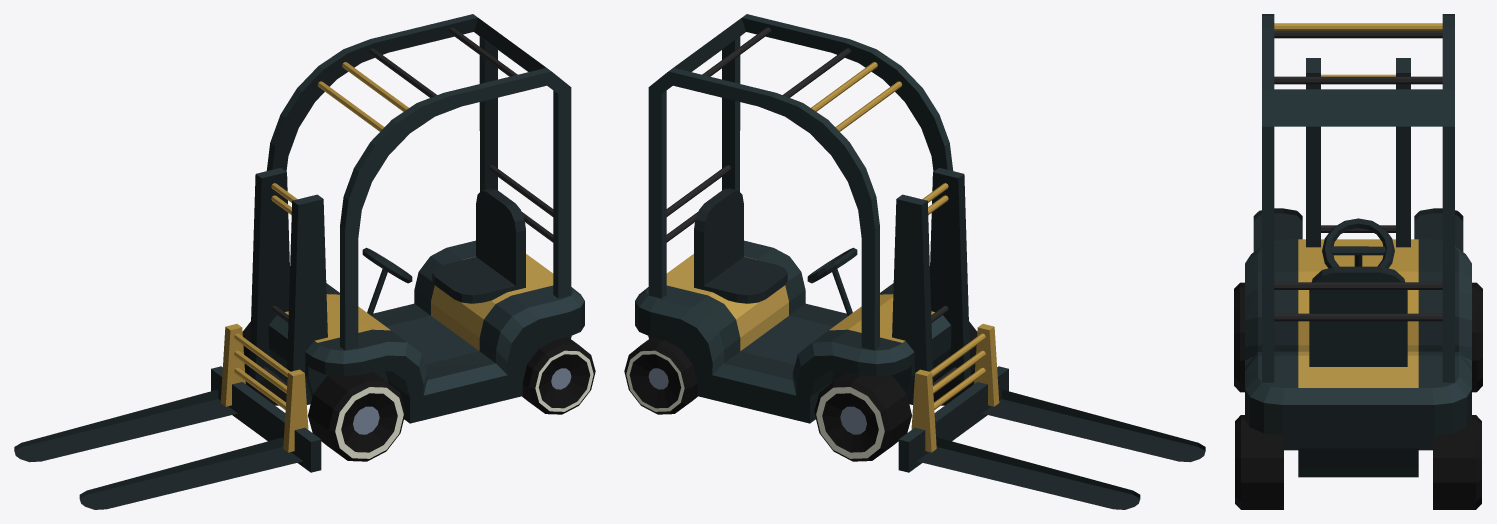
The model's file is forklift.dae.
3 views of the same model, side by side, from view 1: azimuth 30°, elevation 25°; view 2: azimuth 150°, elevation 25°; view 3: azimuth 270°, elevation 25° (orthographic). The views are drawn at different scales.
Visible parts, largest first — view 1: Clark.001; view 2: Clark.001; view 3: Clark.001.
Boxes of the visible parts, x1,y1,x2,y2 form: Clark.001: (14, 14, 595, 509); Clark.001: (624, 14, 1205, 509); Clark.001: (1234, 14, 1482, 509).
Size of the model in its own units: 2.21 by 0.776 by 1.43.
Materials: 1 (1 with a texture image).
